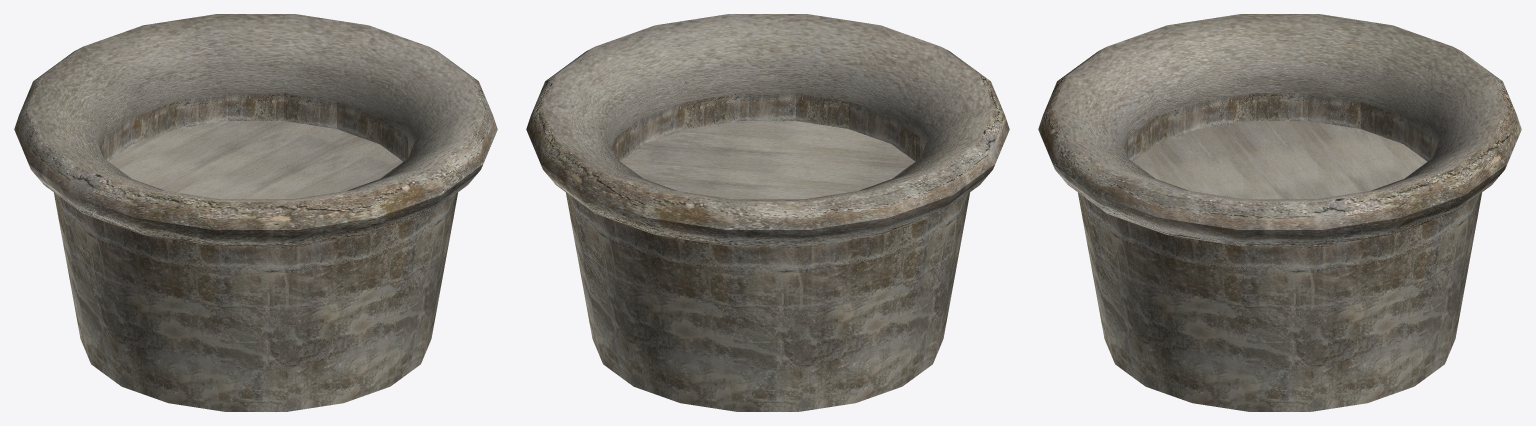
File: cemetary_vase.FBX
The picture shows the model from 3 angles, left to right: view 1: azimuth 30°, elevation 25°; view 2: azimuth 150°, elevation 25°; view 3: azimuth 270°, elevation 25°; orthographic projection.
Visible parts, largest first — view 1: Object004; view 2: Object004; view 3: Object004.
Boxes of the visible parts, x1=… form: Object004: x1=14, y1=14, x2=497, y2=411; Object004: x1=526, y1=14, x2=1009, y2=411; Object004: x1=1038, y1=14, x2=1521, y2=411.
Bounding box in the file's own units: 976 × 523 × 991.
